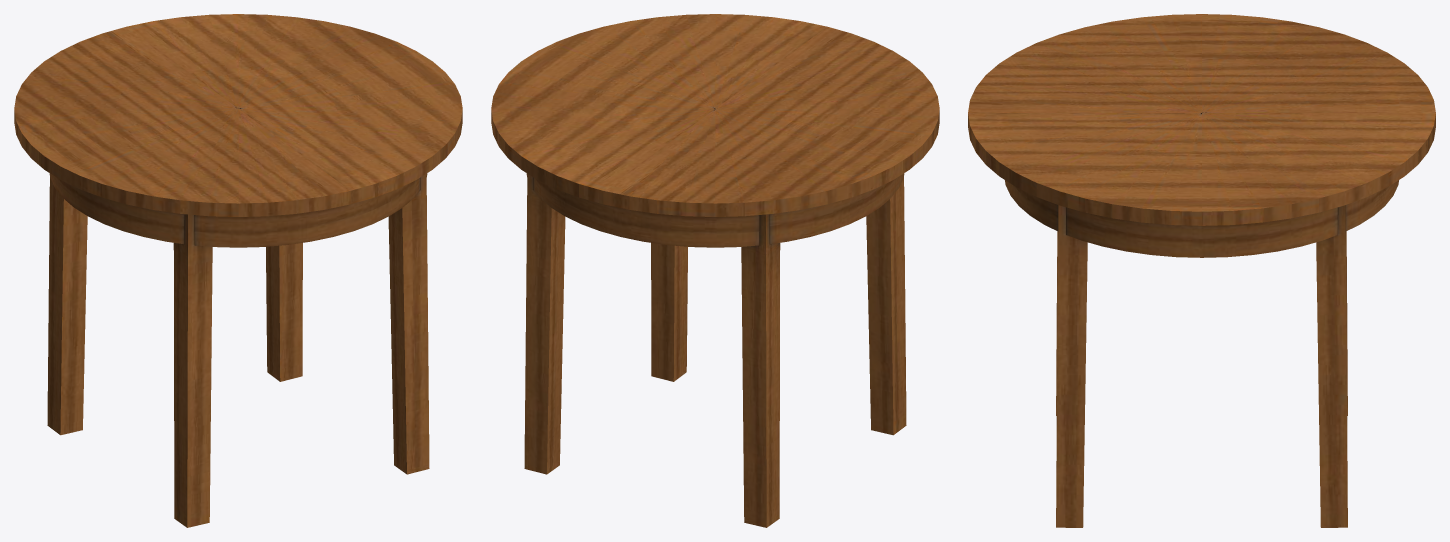
File: table_round_web.glb
3 renders of one model, left to right at view 1: azimuth 30°, elevation 25°; view 2: azimuth 150°, elevation 25°; view 3: azimuth 270°, elevation 25°, orthographic. The views are drawn at different scales.
Visible parts, largest first — view 1: TableRound_Mesh; view 2: TableRound_Mesh; view 3: TableRound_Mesh.
Boxes of the visible parts, left/top/right/bottom form: TableRound_Mesh: left=14, top=14, right=462, bottom=527; TableRound_Mesh: left=491, top=14, right=939, bottom=527; TableRound_Mesh: left=968, top=14, right=1435, bottom=527.
Size of the model in its own units: 0.9 by 0.7506 by 0.9.
1 material, 1 textured.
